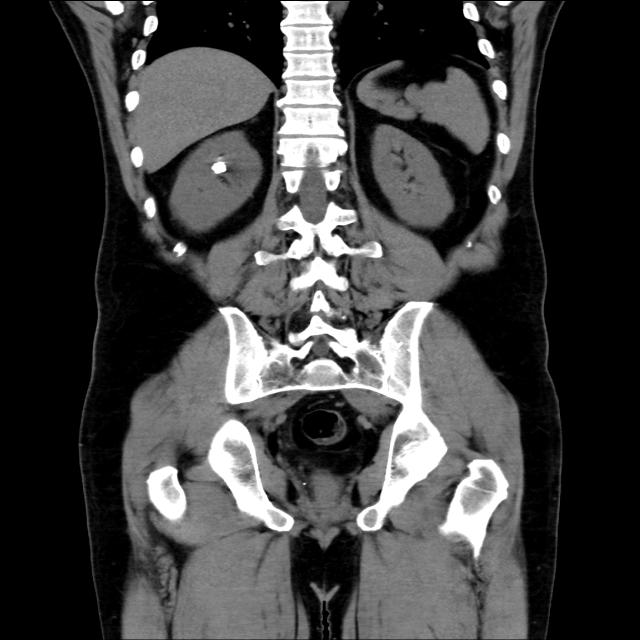kidneystone: (212, 161, 228, 174)
